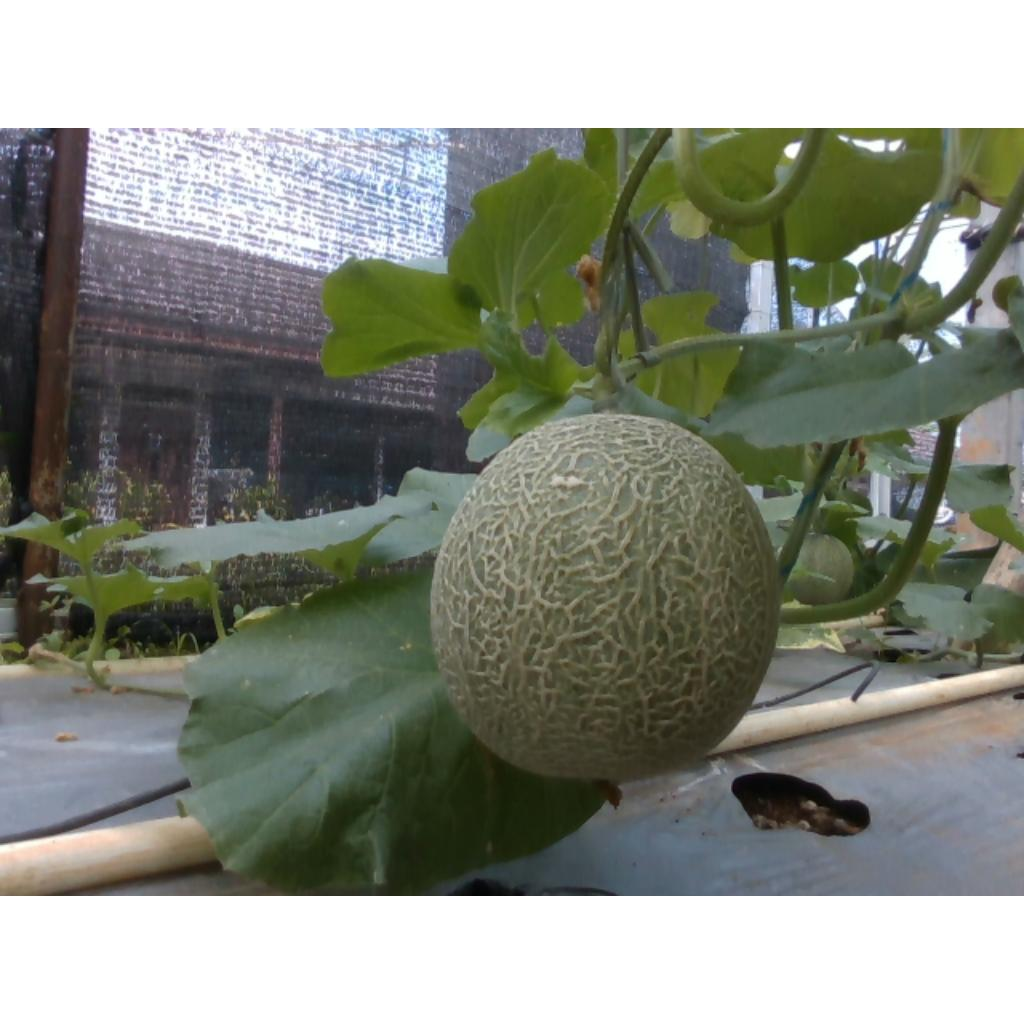melon: (432, 413, 781, 782)
